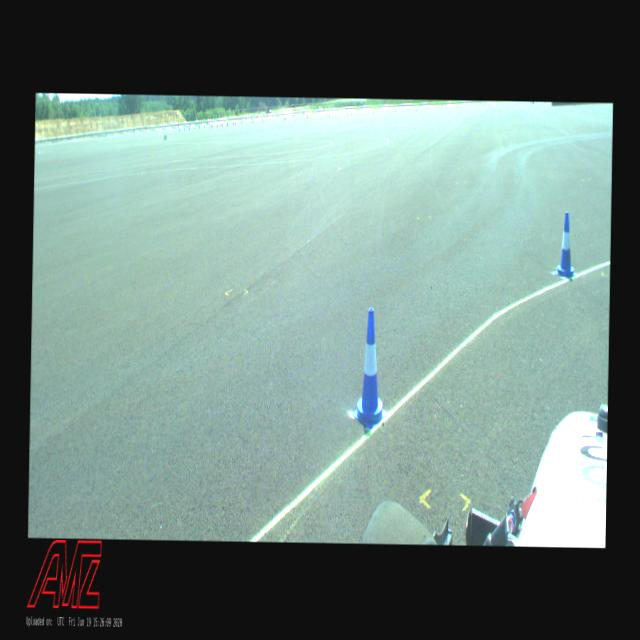blue_cone: (352, 308, 387, 427), (555, 212, 577, 278)
